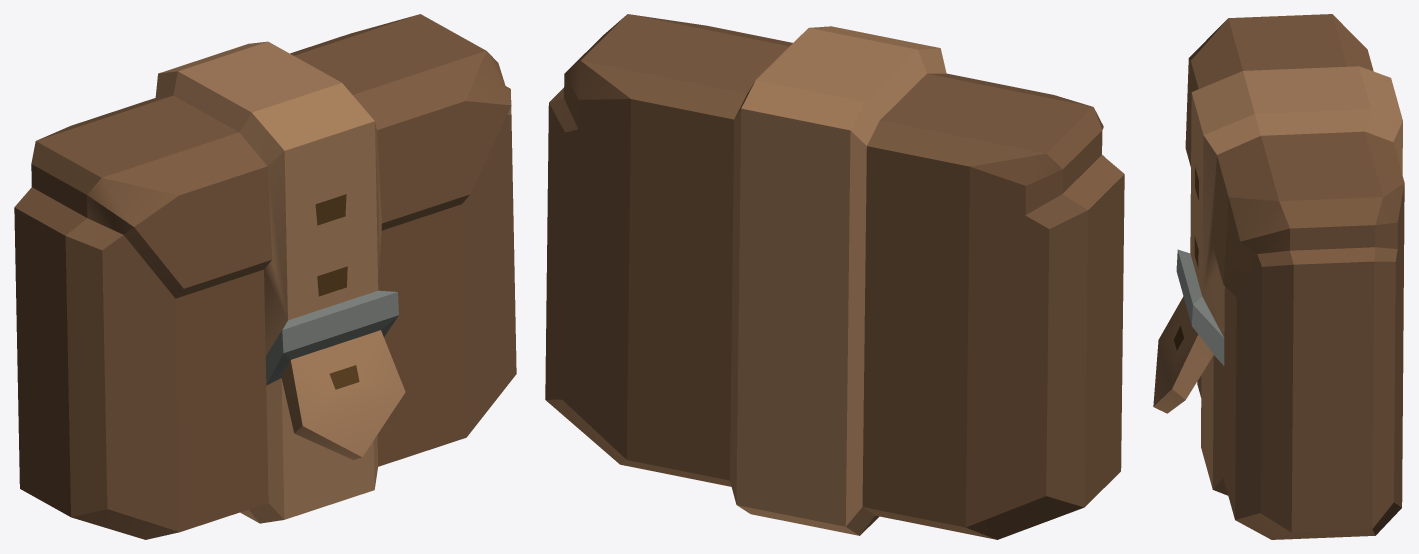
Rendered from SM_Prop_Pouch.FBX.
3 views of the same model, side by side, from view 1: azimuth 30°, elevation 25°; view 2: azimuth 150°, elevation 25°; view 3: azimuth 270°, elevation 25° (orthographic). The views are drawn at different scales.
Parts seen in each view (by area): view 1: SM_Prop_Pouch; view 2: SM_Prop_Pouch; view 3: SM_Prop_Pouch.
Boxes of the visible parts, x1=… form: SM_Prop_Pouch: x1=14, y1=14, x2=516, y2=539; SM_Prop_Pouch: x1=545, y1=14, x2=1124, y2=539; SM_Prop_Pouch: x1=1153, y1=14, x2=1404, y2=539.
Size of the model in its own units: 9.3 by 15.95 by 19.73.
